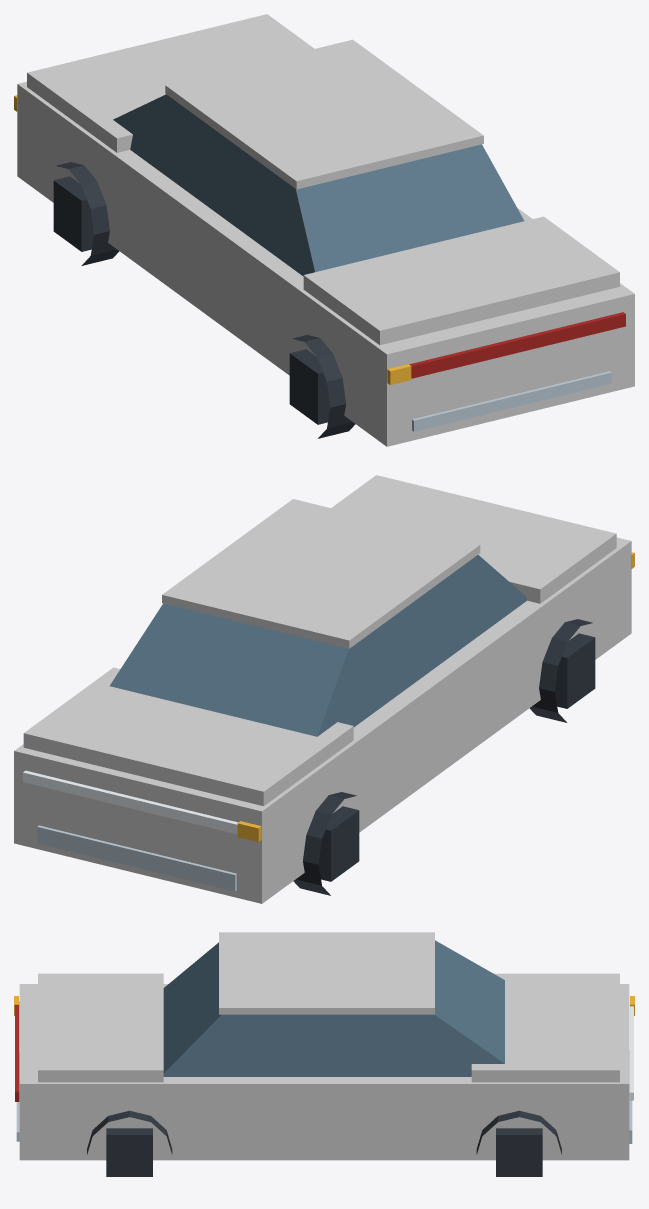
Rendered from road-kit.glb.
The picture shows the model from 3 angles, top to bottom: view 1: azimuth 30°, elevation 25°; view 2: azimuth 150°, elevation 25°; view 3: azimuth 270°, elevation 25°; orthographic projection. The views are drawn at different scales.
Parts seen in each view (by area): view 1: illustrative sedan; view 2: illustrative sedan; view 3: illustrative sedan.
Boxes of the visible parts, x1,y1,x2,y2 form: illustrative sedan: (14, 14, 634, 446); illustrative sedan: (14, 475, 634, 903); illustrative sedan: (14, 932, 634, 1176).
Bounding box in the file's own units: 2.13 × 1.48 × 4.94.
